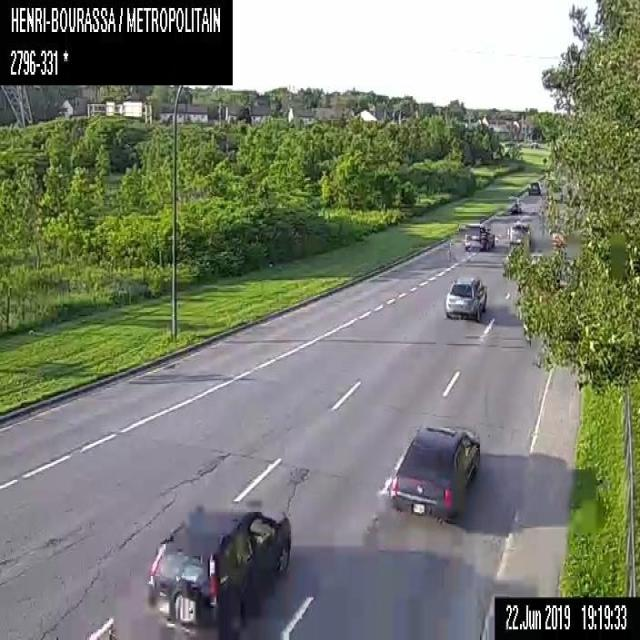vehicle: (147, 505, 292, 639), (386, 423, 479, 520), (443, 275, 486, 321), (464, 222, 494, 251), (507, 219, 530, 244), (506, 194, 522, 215), (528, 180, 540, 196)
